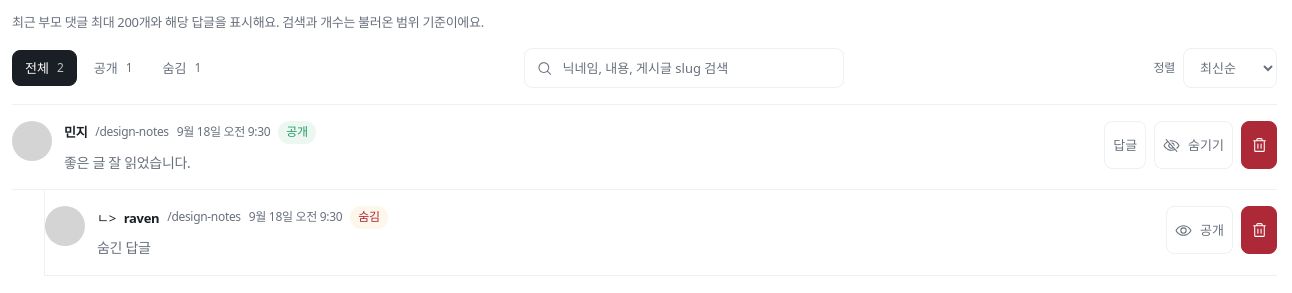
Scenario: AdminComments › 부모가 공개 상태여도 숨김 답글을 숨김 탭에서 관리할 수 있다
Expected: the text "민지" is shown, top-left (64, 122), bottom-right (87, 142)
Step 1. Click the tab named "숨김1" → (182, 68), box top-left (150, 50), bottom-right (214, 86)
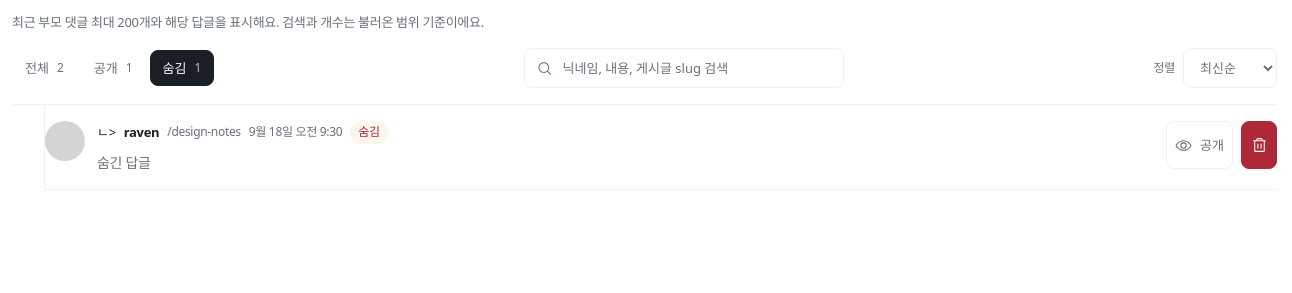
Expected: the text "숨긴 답글" is shown, top-left (97, 153), bottom-right (151, 172)
Expected: the text "좋은 글 잘 읽었습니다." is gone
